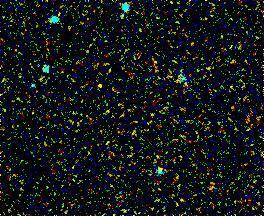star: (85, 70, 115, 100)
